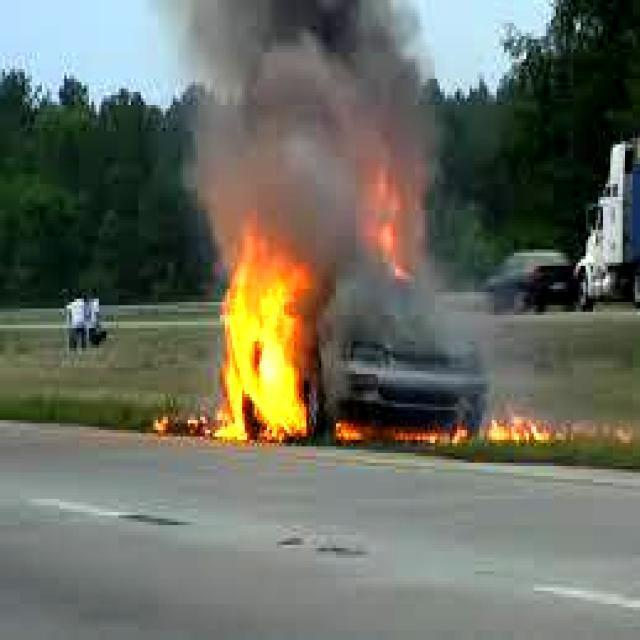Fire: (210, 234, 332, 442), (336, 412, 572, 446)
Smoke: (167, 0, 427, 271)
